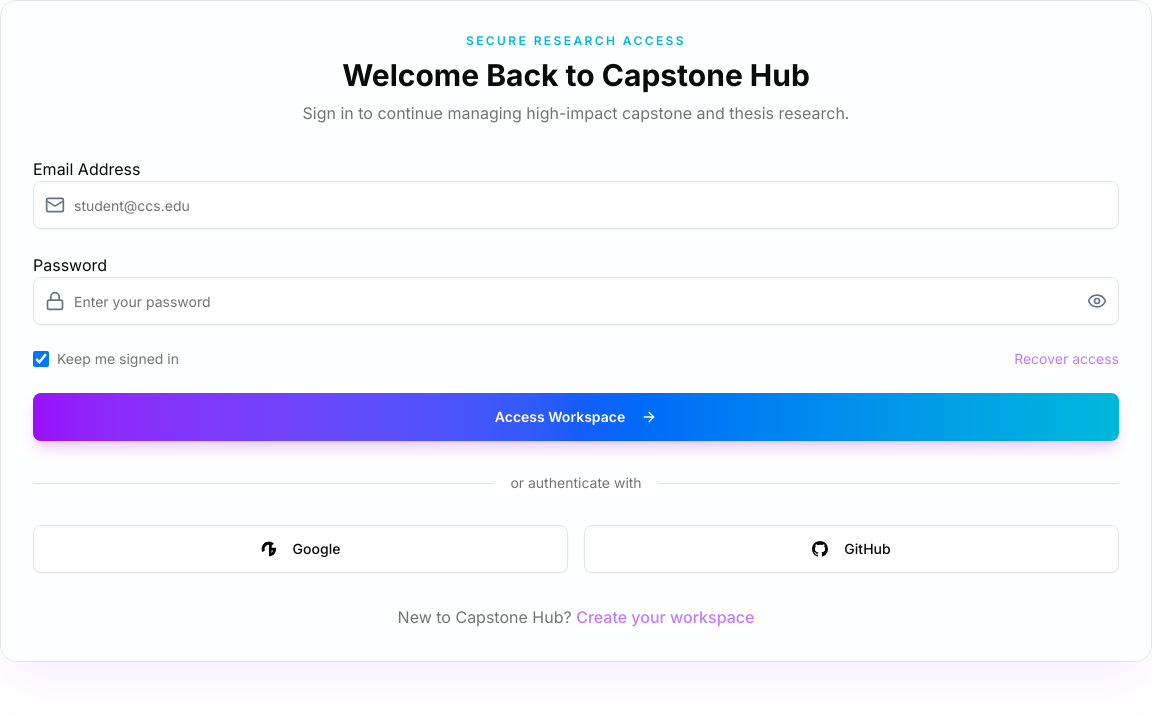
Test case: Login Component › TC-LOGIN-002: Invalid login credentials
Type "wrong@ccs.edu" into the field labelled "Email Address" at (576, 205), box left=33, top=181, right=1119, bottom=229
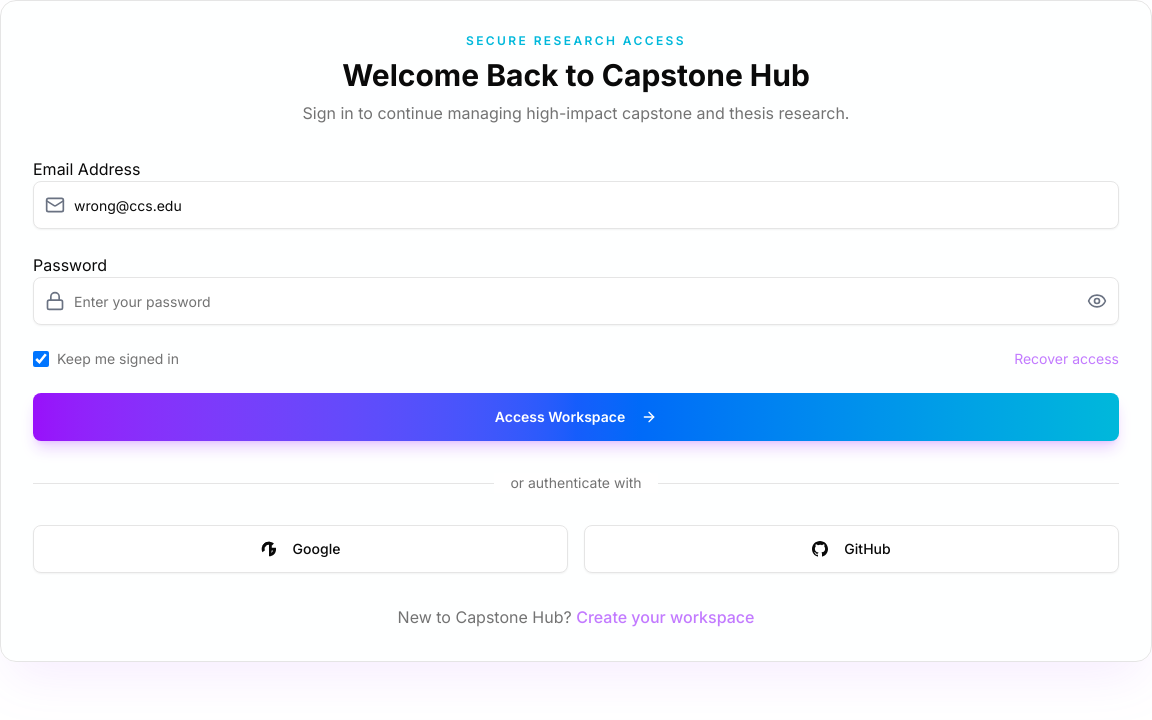
Type "WrongPassword123" into the password field labelled "Password" at (576, 301), box left=33, top=277, right=1119, bottom=325
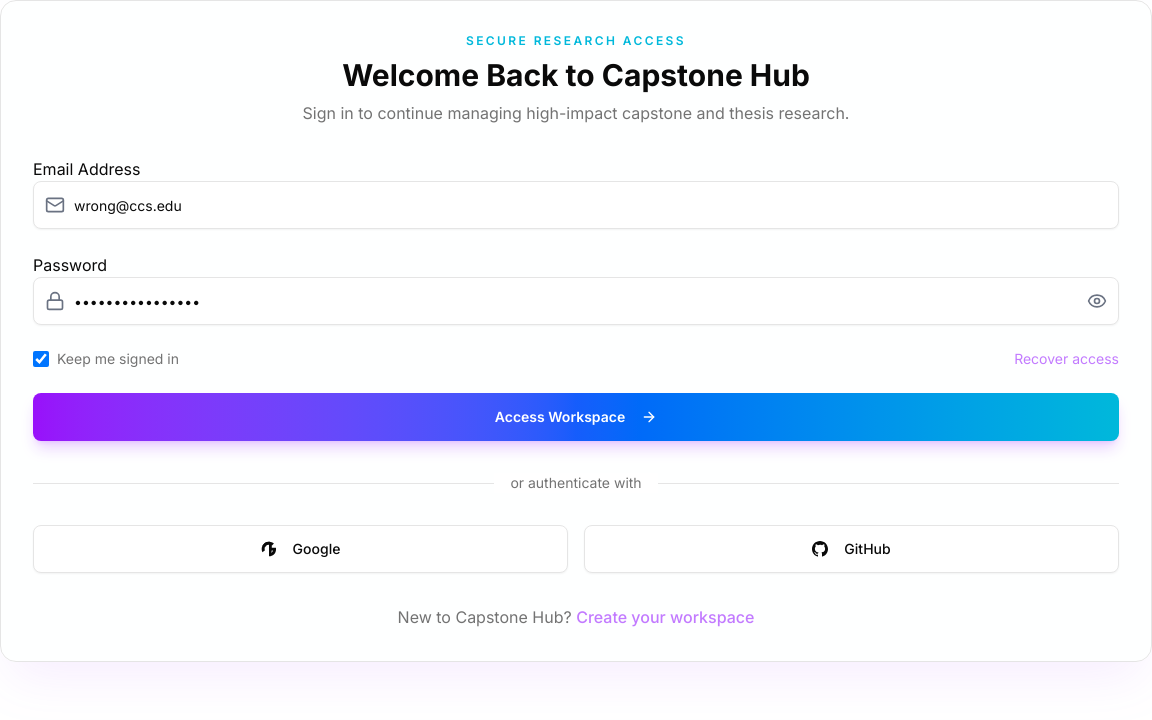
Click the button "Access Workspace" at (576, 417), box left=33, top=393, right=1119, bottom=441
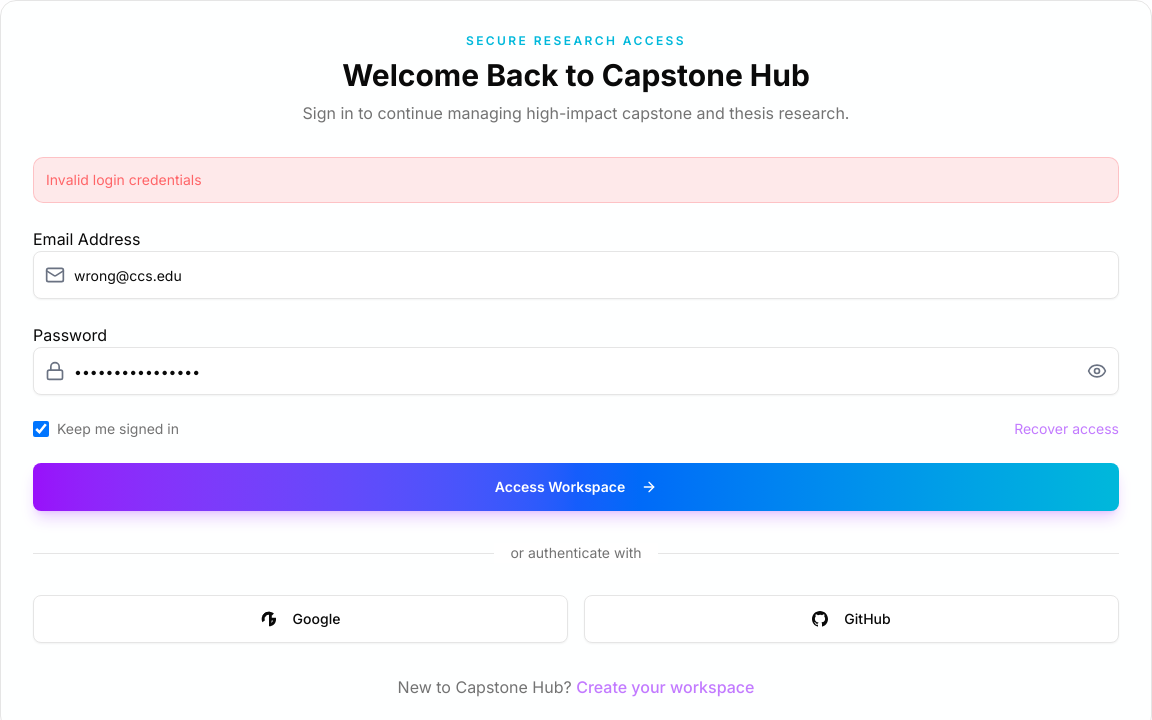
Check: the text "Invalid login credentials" is shown, box left=33, top=157, right=1119, bottom=203
